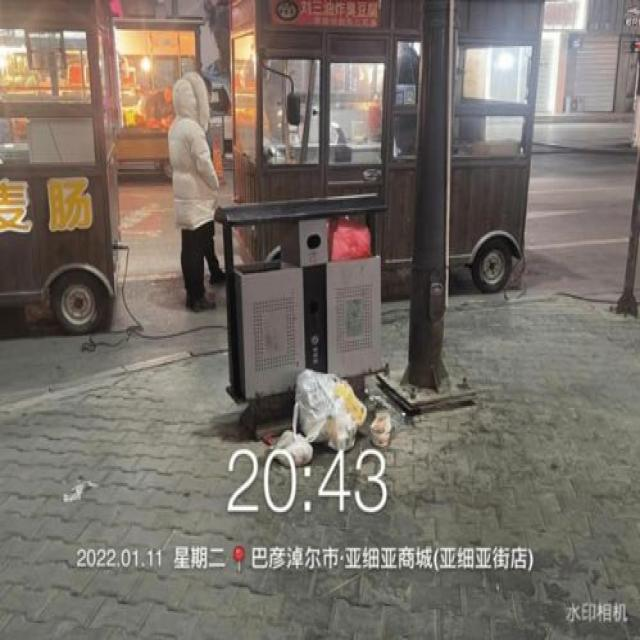garbage: (272, 367, 391, 466)
overflow: (213, 192, 387, 400)
